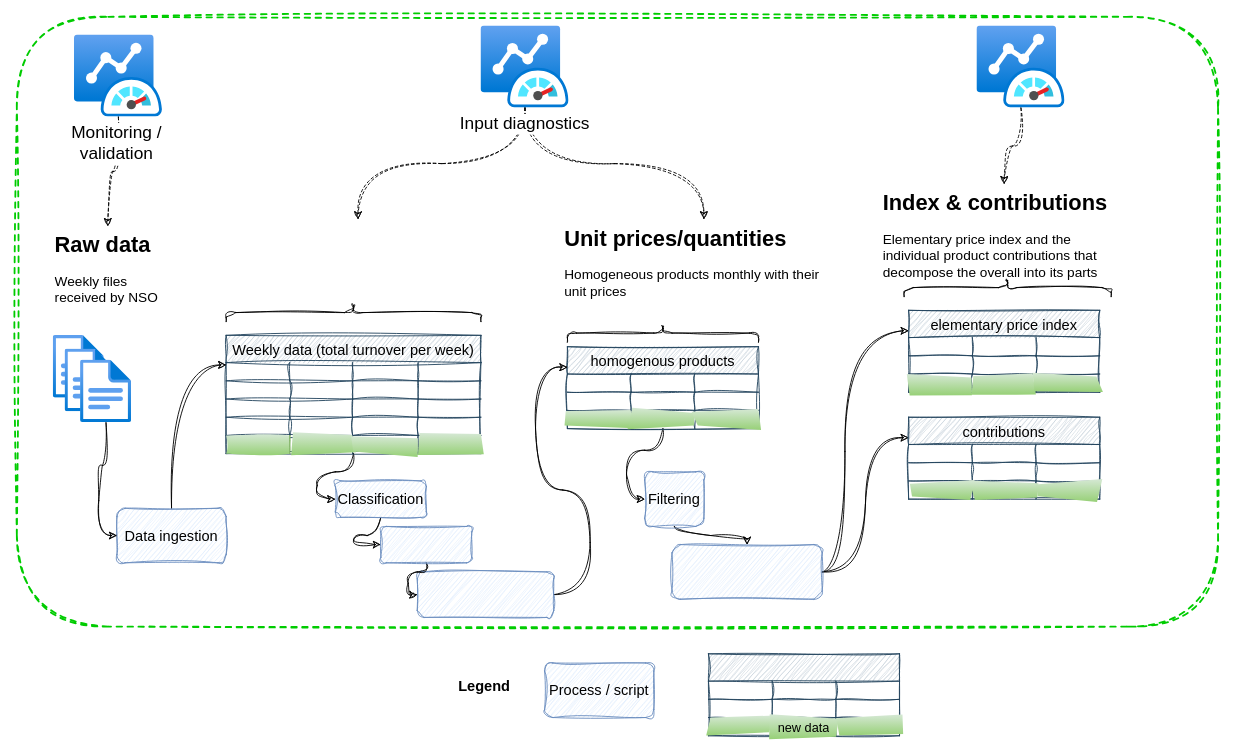
Image size: 1234x752. Some labels were removed from this diagram. The shapes that lost their labels are listed below. From the top down, each one's box as (x1, y1, x2, y2) in pixels, then its label:
(976, 25, 1065, 107): Analytical diagnostics
(225, 303, 481, 322): Ingested (raw) data Raw data formatted into analytical and consumable format
(380, 526, 472, 563): Outlier detectection
(671, 544, 822, 599): Multilateral price index method and contributions
(416, 571, 554, 617): Homogenous product aggregation
(708, 653, 900, 736): Data table
